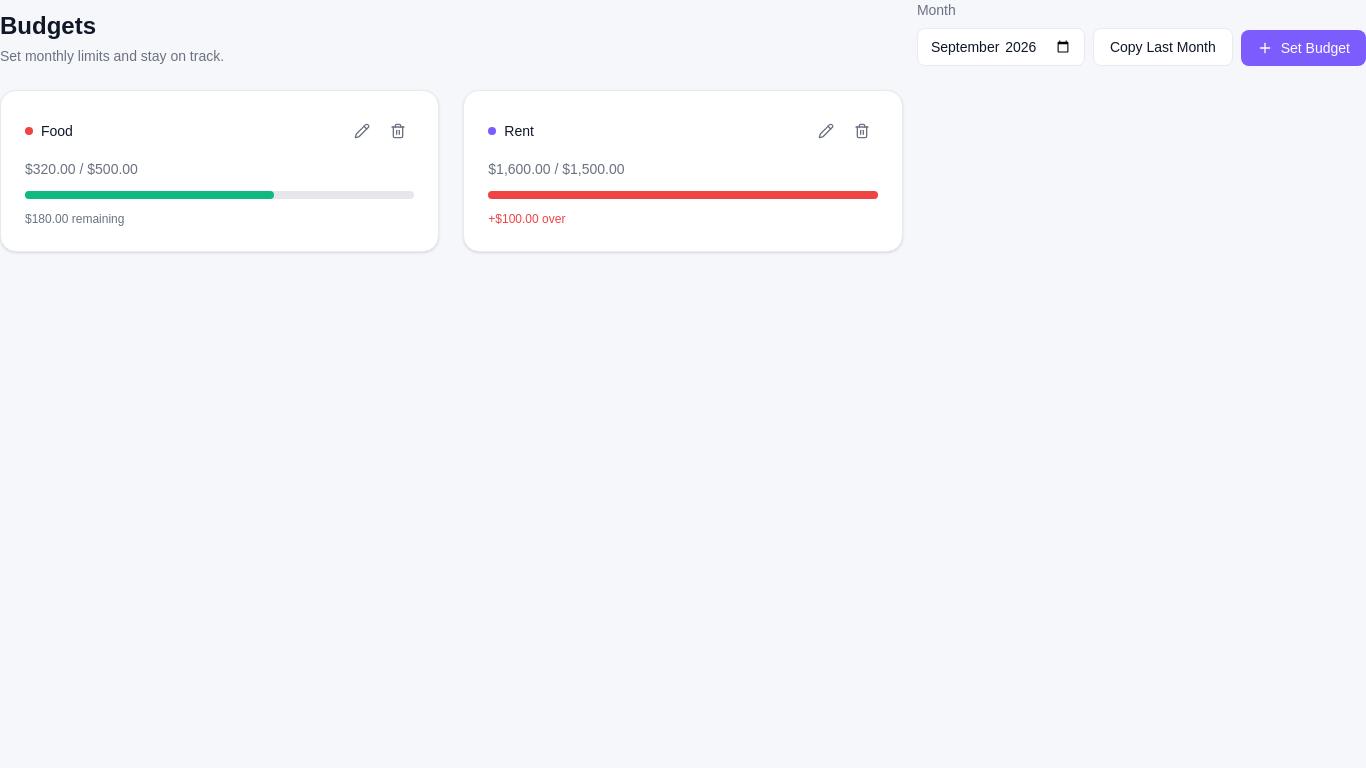
BudgetsView › opens the edit dialog from a card action
Click the button named "Edit budget bud_1".
click(362, 131)  # box [346,115,378,147]
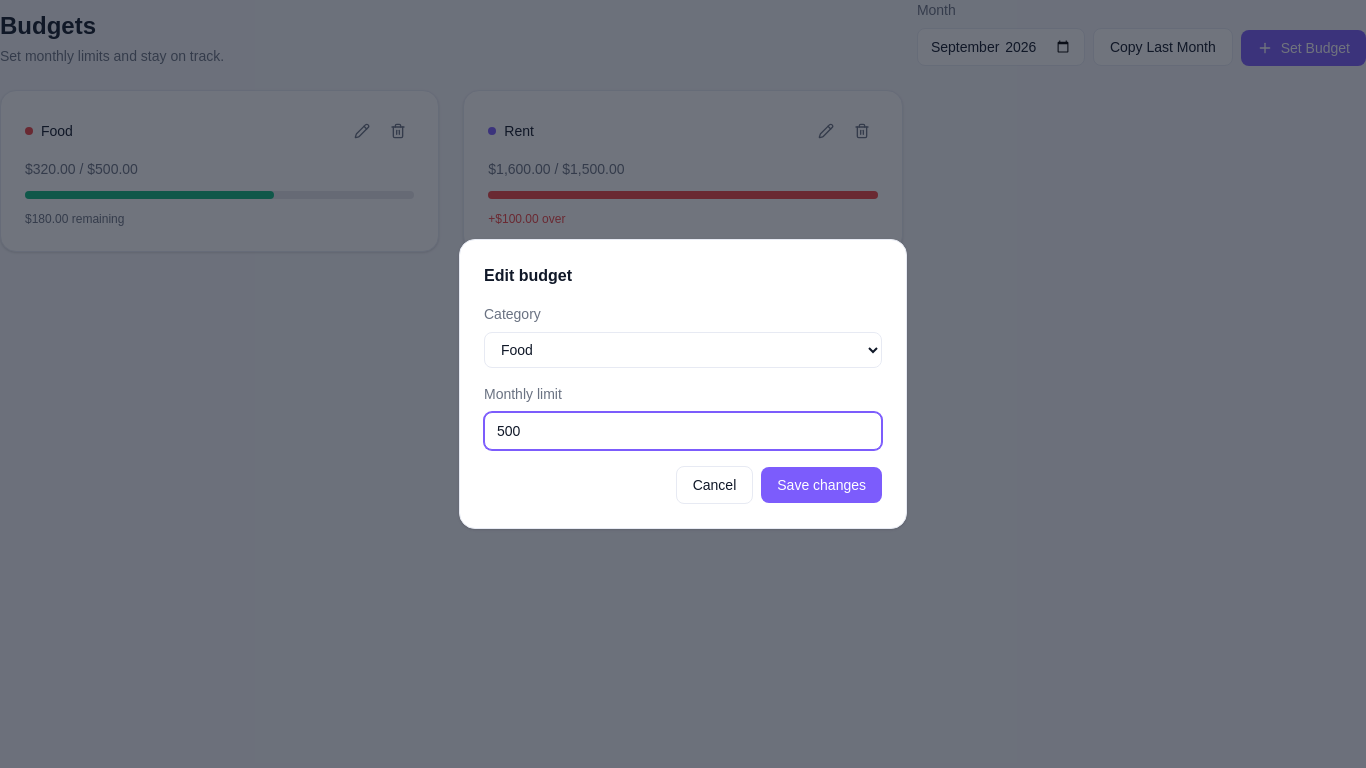
Expected: the dialog "Edit budget" is shown, [459,239,907,529]
